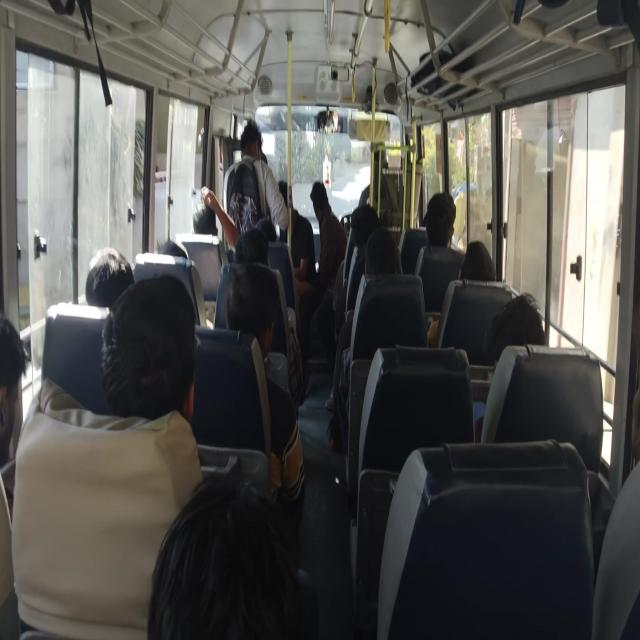person: (147, 474, 310, 638), (100, 274, 198, 424), (224, 262, 281, 352), (482, 292, 546, 368), (0, 311, 30, 446), (84, 247, 135, 310), (363, 225, 402, 279), (422, 191, 457, 250), (460, 239, 496, 282), (348, 203, 381, 249), (234, 227, 270, 267), (311, 178, 339, 224), (240, 126, 268, 166), (191, 203, 218, 237), (155, 238, 189, 260), (254, 217, 278, 245), (633, 374, 640, 467), (278, 180, 288, 204)
